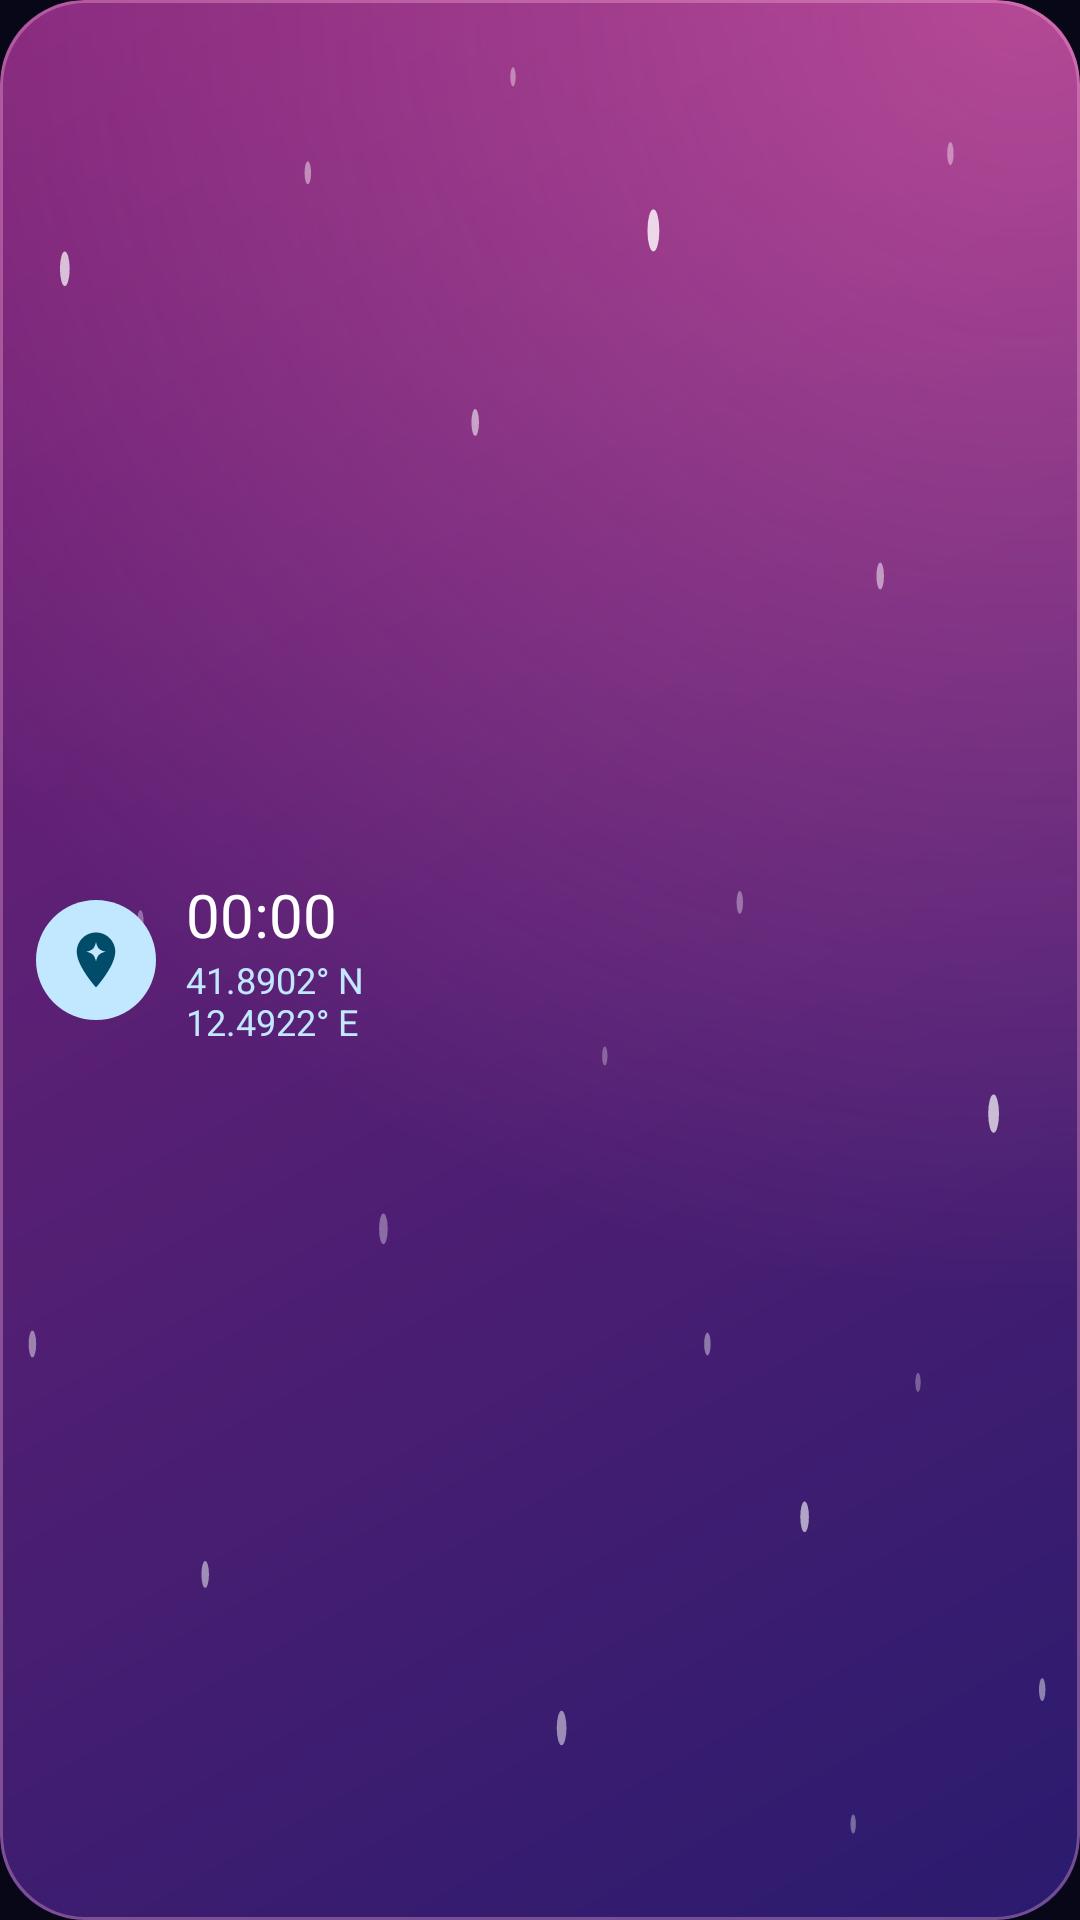

Named icons in this screenshot (1080×1920) and their bounding boxes, detection(x1, y1, x2, y2):
pin: detection(36, 900, 156, 1020)
